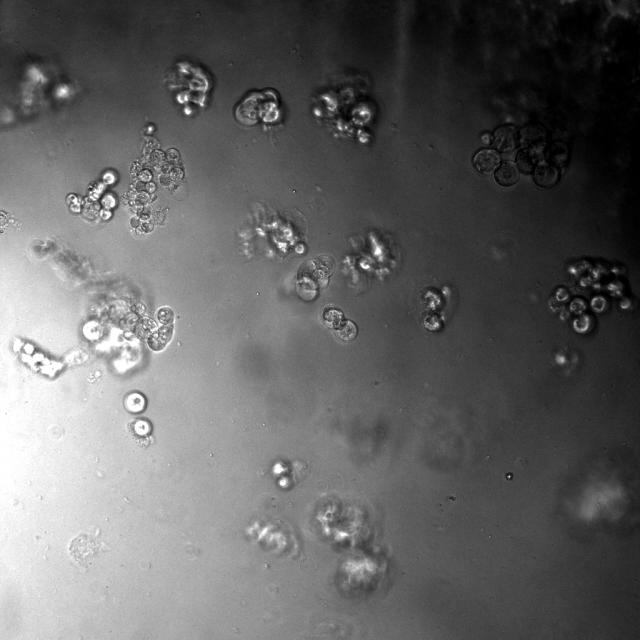organoid: (9, 235, 177, 379), (472, 94, 569, 189), (308, 493, 388, 596), (119, 122, 190, 237), (548, 257, 639, 334), (0, 58, 79, 128), (311, 69, 378, 143), (238, 203, 308, 259), (341, 229, 401, 289), (65, 168, 119, 222), (164, 58, 213, 116), (244, 517, 299, 557), (294, 254, 336, 301), (234, 88, 283, 128), (419, 283, 458, 332), (322, 305, 358, 343), (269, 458, 306, 490), (69, 533, 102, 568), (127, 416, 152, 448), (123, 390, 147, 415), (0, 209, 21, 234)
